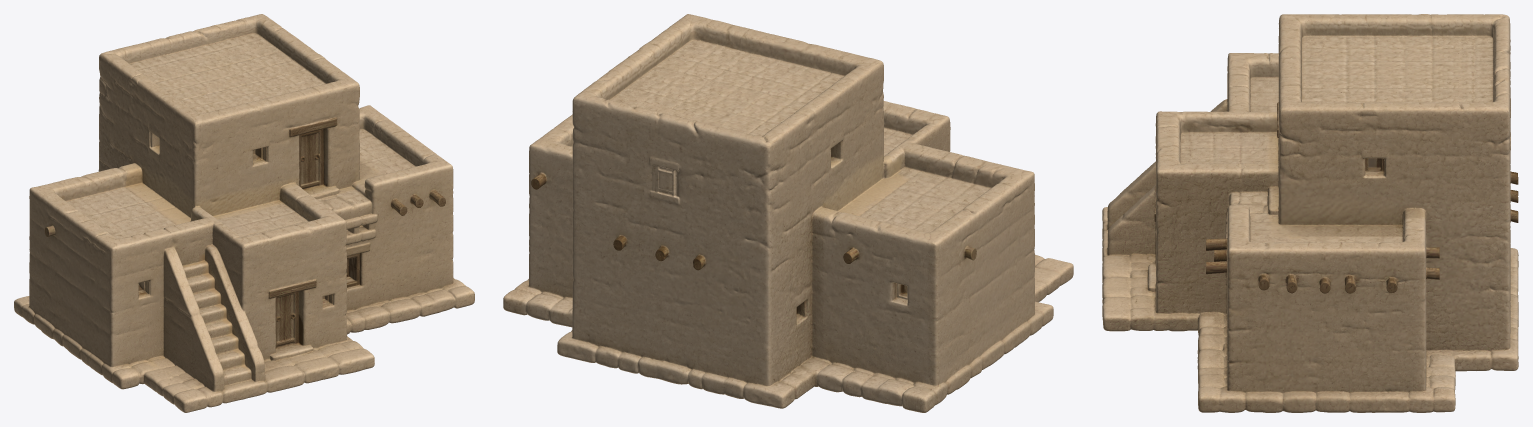
Rendered from a116_iki_katli_duz_damli_kerpic_ev.glb.
The picture shows the model from 3 angles, left to right: view 1: azimuth 30°, elevation 25°; view 2: azimuth 150°, elevation 25°; view 3: azimuth 270°, elevation 25°; orthographic projection. The views are drawn at different scales.
Size of the model in its own units: 1.9 by 1.09 by 1.59.
1 material, 1 textured.
